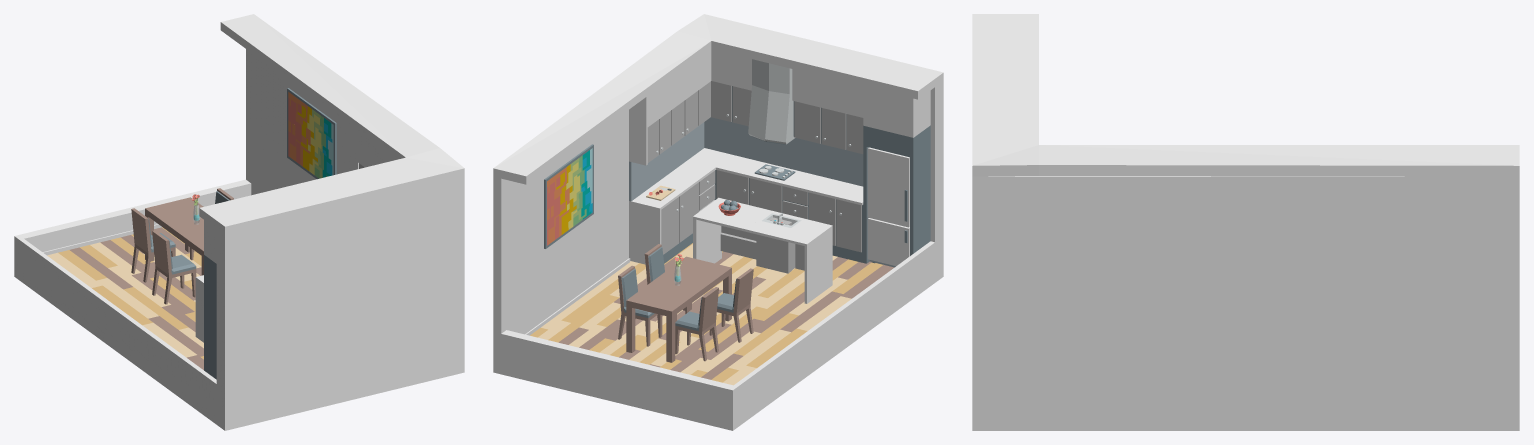
File: Room.gltf
3 views of the same model, side by side, from view 1: azimuth 30°, elevation 25°; view 2: azimuth 150°, elevation 25°; view 3: azimuth 270°, elevation 25° (orthographic). The views are drawn at different scales.
Parts seen in each view (by area): view 1: Node; view 2: Node; view 3: Node.
Boxes of the visible parts, box(x1,y1,x2,y2) form: Node: box(14, 14, 464, 430); Node: box(493, 14, 943, 430); Node: box(972, 14, 1519, 430).
Size of the model in its own units: 2.11 by 1.72 by 3.2.
